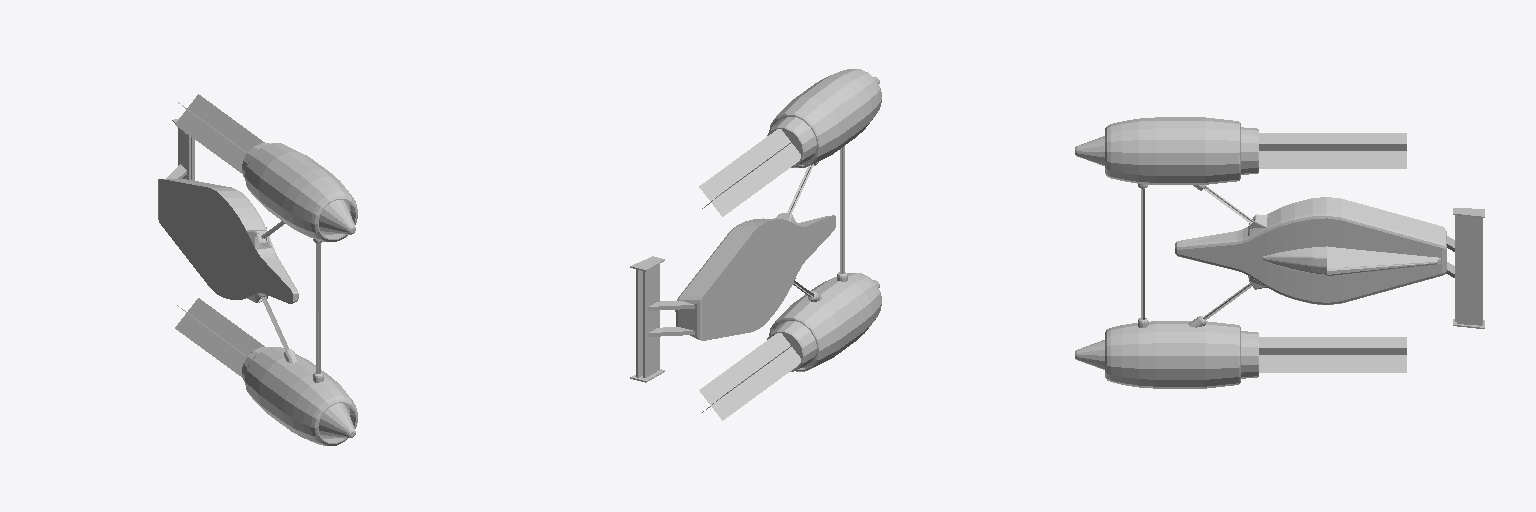
The model's file is race_pod.obj.
The picture shows the model from 3 angles: view 1: azimuth 30°, elevation 25°; view 2: azimuth 150°, elevation 25°; view 3: azimuth 270°, elevation 25°; orthographic projection.
Visible parts, largest first — view 1: Cylinder; view 2: Cylinder; view 3: Cylinder.
Part boxes in pixels (x1,y1,x2,y2): Cylinder: (158, 94, 357, 445); Cylinder: (630, 69, 881, 420); Cylinder: (1075, 117, 1484, 388).
Bounding box in the file's own units: 0.7983 × 2.86 × 4.02.